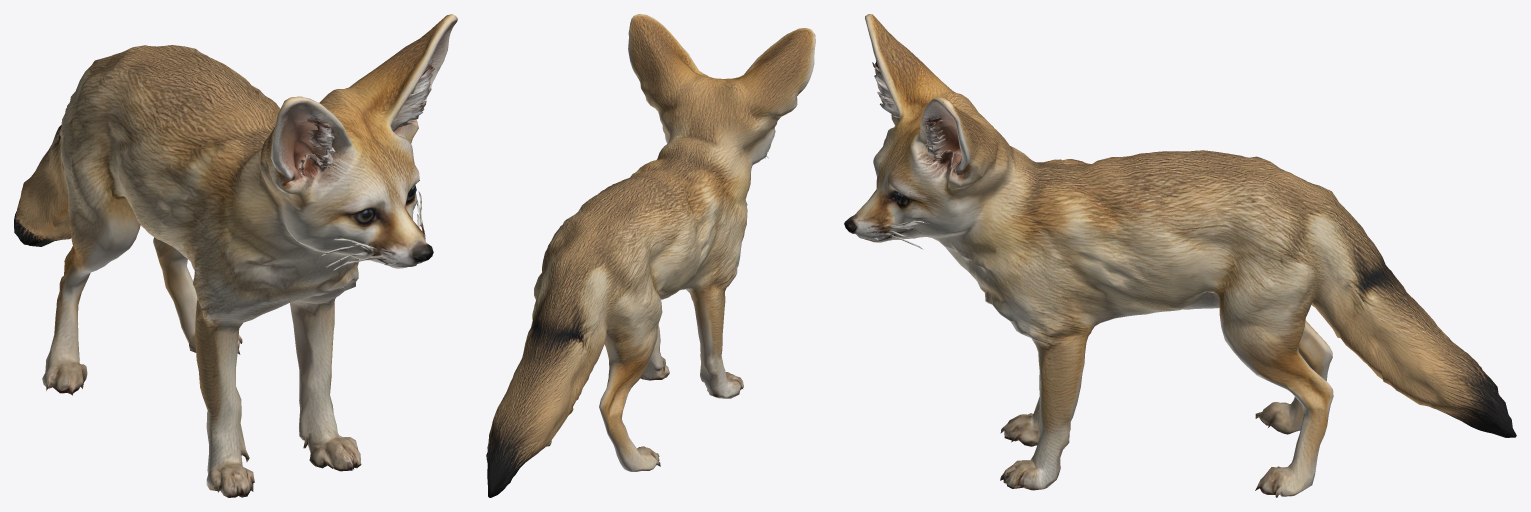
The model's file is fennec.glb.
3 views of the same model, side by side, from view 1: azimuth 30°, elevation 25°; view 2: azimuth 150°, elevation 25°; view 3: azimuth 270°, elevation 25° (orthographic). The views are drawn at different scales.
Visible parts, largest first — view 1: tripo_node_ad5f0c36-b4b8-454f-a488-8899ff75814b; view 2: tripo_node_ad5f0c36-b4b8-454f-a488-8899ff75814b; view 3: tripo_node_ad5f0c36-b4b8-454f-a488-8899ff75814b.
Part boxes in pixels (x1,y1,x2,y2): tripo_node_ad5f0c36-b4b8-454f-a488-8899ff75814b: (14,14,457,497); tripo_node_ad5f0c36-b4b8-454f-a488-8899ff75814b: (486,14,815,497); tripo_node_ad5f0c36-b4b8-454f-a488-8899ff75814b: (844,14,1516,497).
Size of the model in its own units: 0.3451 by 0.6785 by 1.
Materials: 1 (1 with a texture image).
